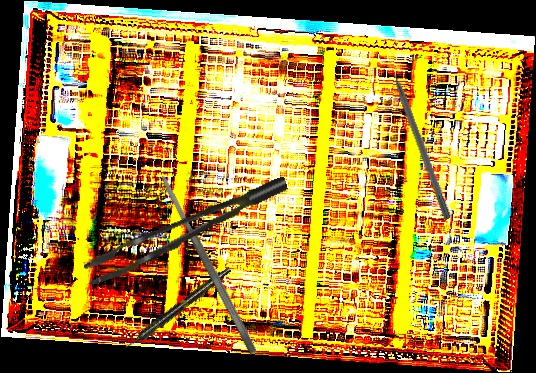Handpiece: (121, 264, 234, 353)
Pusher: (384, 53, 454, 221)
Spatula Surgical: (158, 173, 259, 356)
Tissue Forceps: (76, 176, 298, 286)
